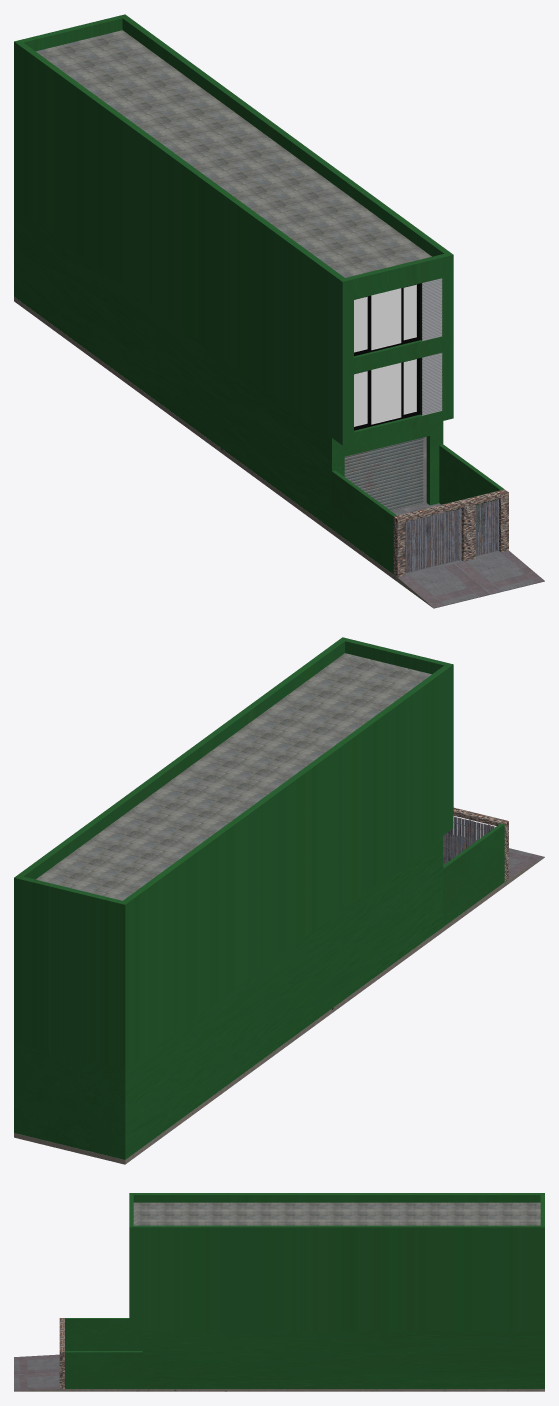
The model's file is AsianHouse_HUY_TRAN_gltf.glb.
The picture shows the model from 3 angles, top to bottom: view 1: azimuth 30°, elevation 25°; view 2: azimuth 150°, elevation 25°; view 3: azimuth 270°, elevation 25°; orthographic projection. The views are drawn at different scales.
Parts seen in each view (by area): view 1: Base_house, Metal_Door, Metal_gate_4, Meta_gate_6, Metal_gate_02; view 2: Base_house, Metal_gate_4; view 3: Base_house.
Boxes of the visible parts, x1,y1,x2,y2 form: Base_house: (14, 14, 544, 608); Metal_Door: (344, 437, 426, 511); Metal_gate_4: (432, 510, 451, 566); Meta_gate_6: (413, 515, 432, 571); Metal_gate_02: (475, 501, 488, 555); Base_house: (14, 637, 544, 1164); Metal_gate_4: (450, 816, 469, 859); Base_house: (14, 1193, 544, 1391).
Bounding box in the file's own units: 6.02 × 13.44 × 39.35.
15 materials, 13 textured.
